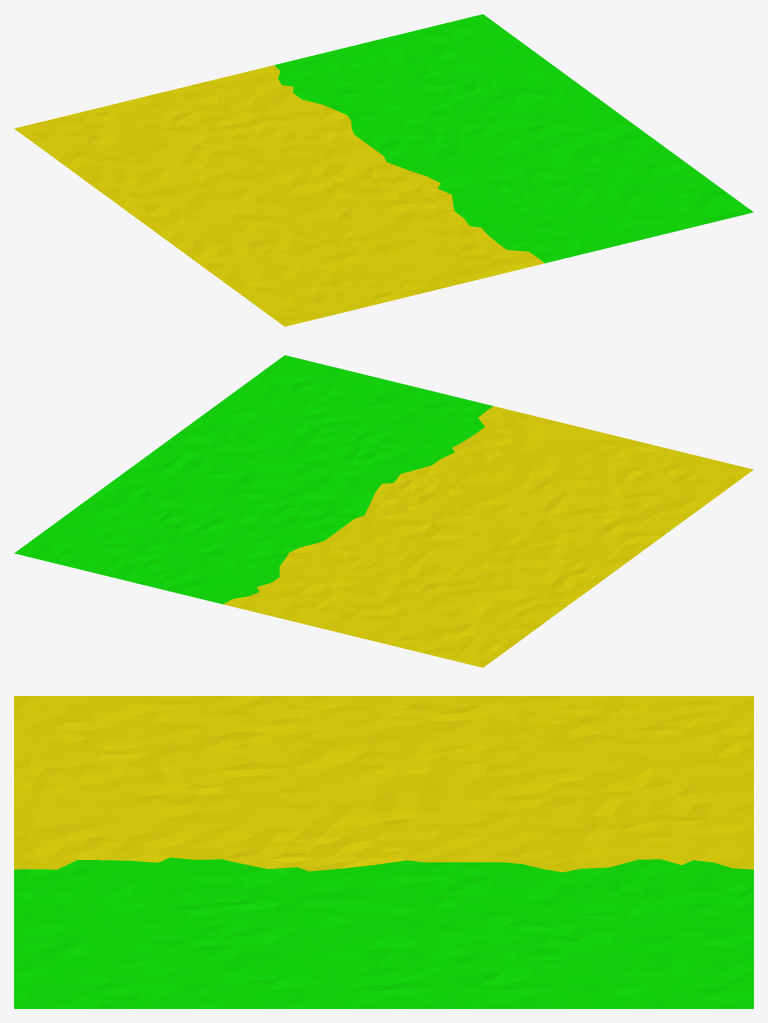
Rendered from CPT_Terrain_L_a_05_LOD.fbx.
The picture shows the model from 3 angles, top to bottom: view 1: azimuth 30°, elevation 25°; view 2: azimuth 150°, elevation 25°; view 3: azimuth 270°, elevation 25°; orthographic projection. The views are drawn at different scales.
Visible parts, largest first — view 1: CPT_Terrain_L_a_05_LOD0; view 2: CPT_Terrain_L_a_05_LOD0; view 3: CPT_Terrain_L_a_05_LOD0.
Part boxes in pixels (<box>): CPT_Terrain_L_a_05_LOD0: <box>14,14,753,326</box>; CPT_Terrain_L_a_05_LOD0: <box>14,355,753,667</box>; CPT_Terrain_L_a_05_LOD0: <box>14,696,753,1008</box>.
Size of what is drawn, in the model's own units: 10000 by 20 by 10000.
